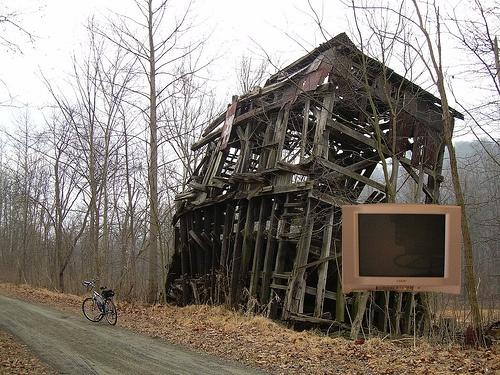tampered: (343, 204, 461, 294)
